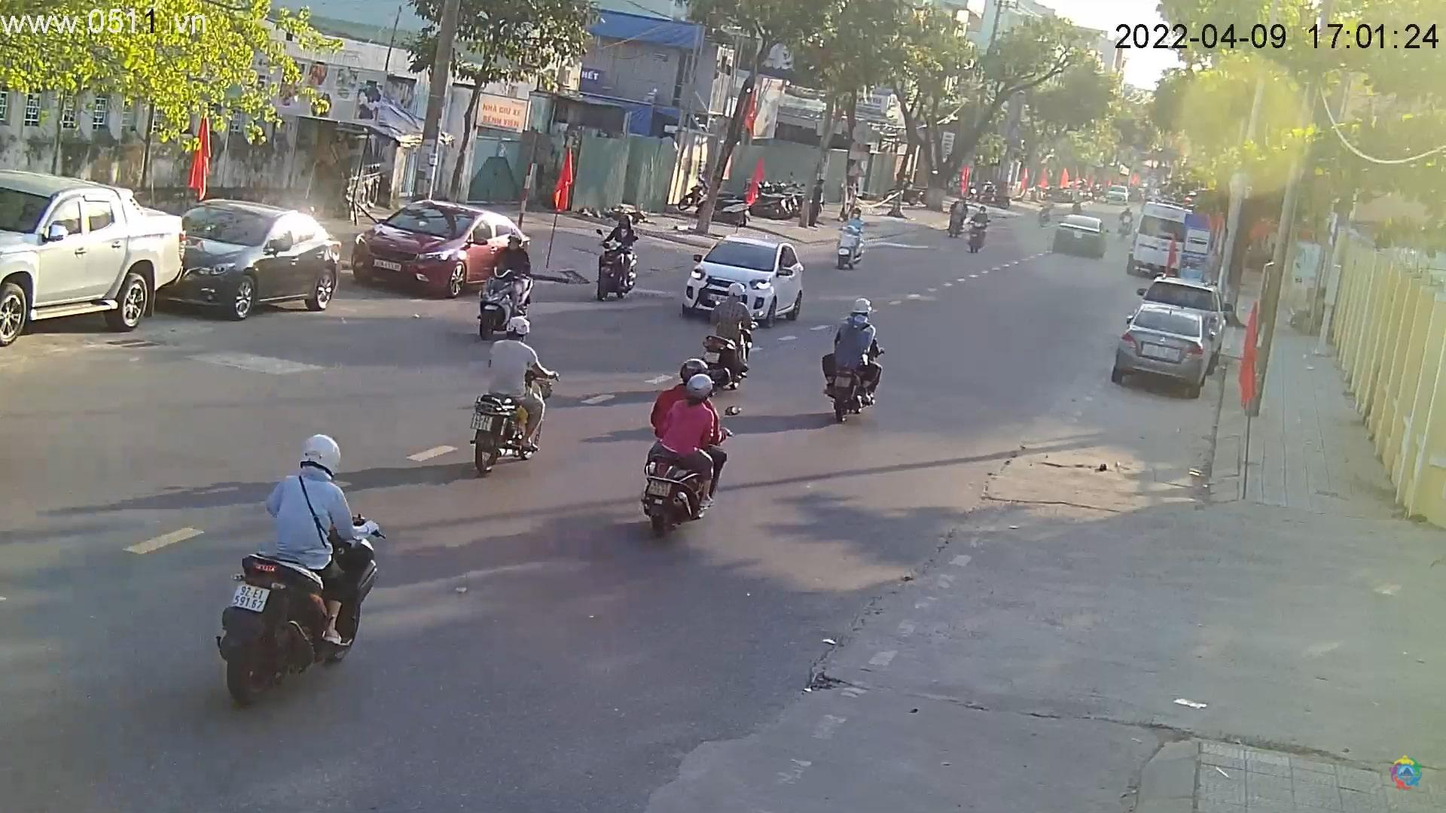car: (2, 166, 188, 353), (164, 201, 348, 322), (352, 203, 530, 299), (679, 233, 805, 324)
motorbike: (475, 276, 539, 341), (594, 243, 639, 300), (834, 218, 869, 269), (966, 221, 990, 255)
